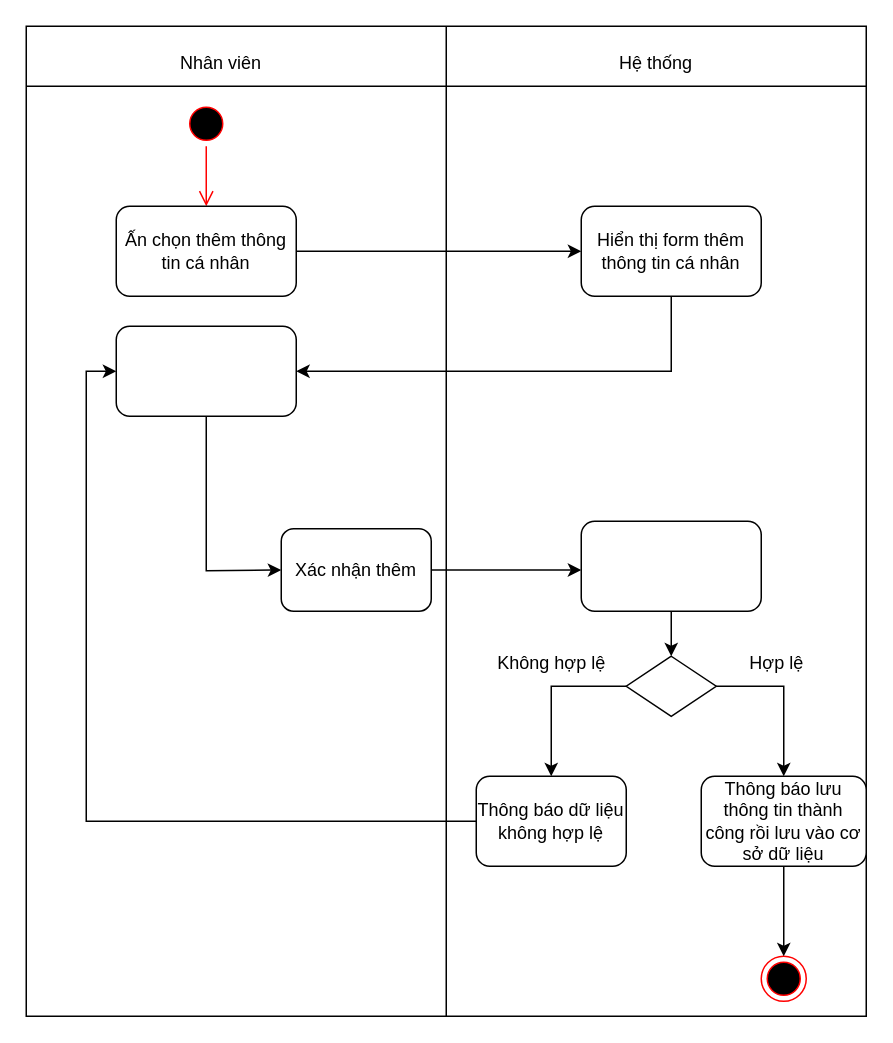
The diagram is 893 pixels wide and 1043 high, and some of its shapes have lost their labels. The shapes that lost their labels are listed below. From the top down, each one's centre as x and y in pixels, then its label:
pixel 205 370: Nhập thông tin
pixel 670 565: Kiểm tra thông tin đầu vào
